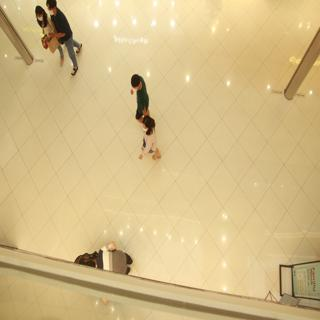person: (48, 1, 86, 76), (119, 64, 155, 122), (135, 116, 169, 172), (27, 3, 56, 53)
